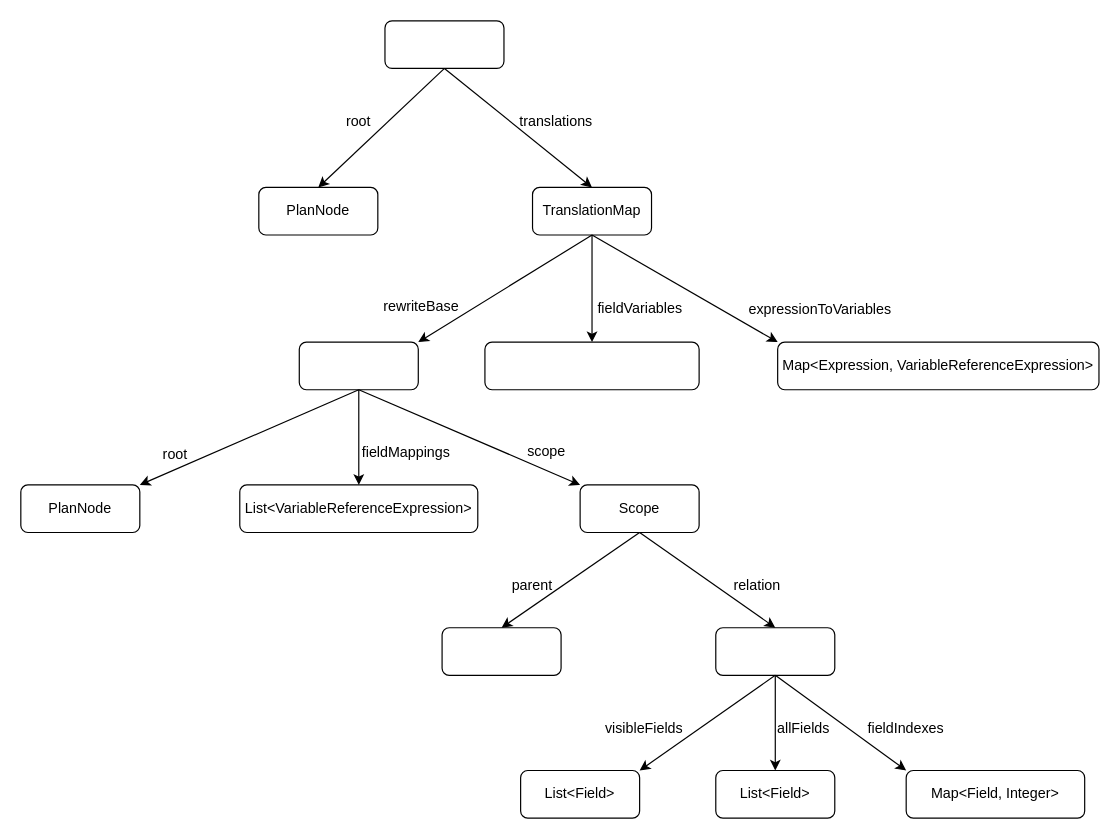
Some shapes in this 1120 by 839 pixel diagram are drawn without their labels. The shapes that lost their labels are listed below. From the top down, each one's centre as x and y in pixels, then its label:
At (x=444, y=44): "PlanBuilder".
At (x=358, y=365): "RelationPlan".
At (x=591, y=365): "VariableReferenceExpression[]".
At (x=501, y=651): "Optional<Scope>".
At (x=775, y=651): "RelationType".
